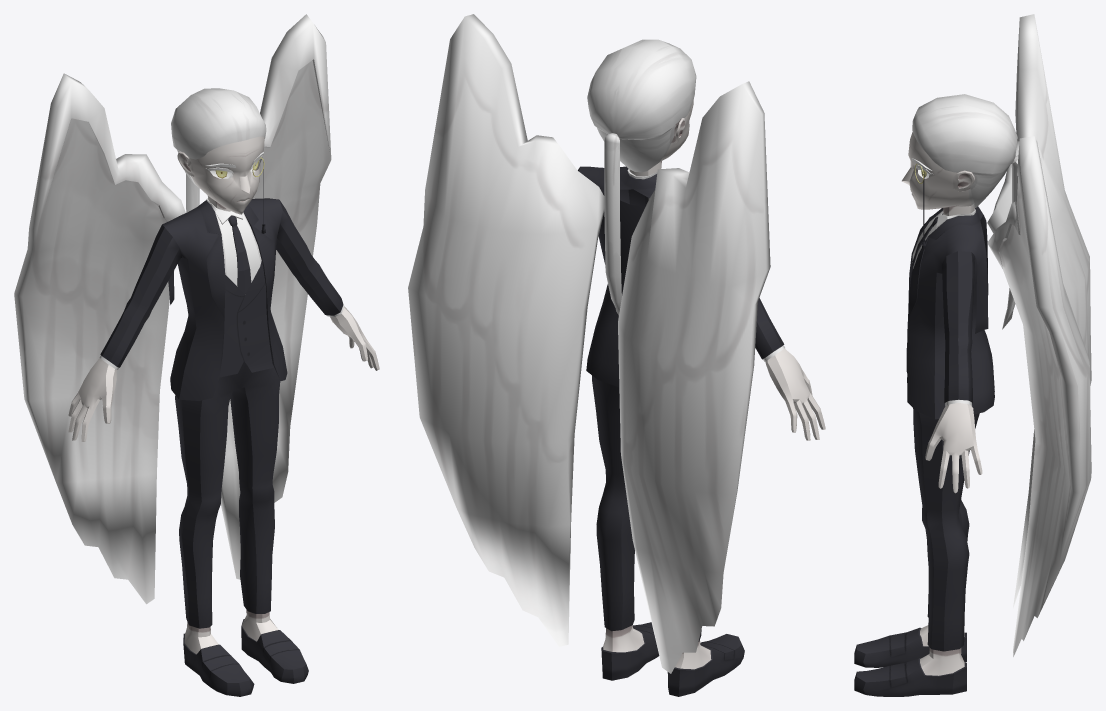
3 renders of one model, left to right at view 1: azimuth 30°, elevation 25°; view 2: azimuth 150°, elevation 25°; view 3: azimuth 270°, elevation 25°, orthographic. The views are drawn at different scales.
Parts seen in each view (by area): view 1: Wings, body, Body_Clothes_Outer, foot, Hair_Main, Body_Clothes_inner, Ac_Necktie; view 2: Wings, body, Hair_Main, Body_Clothes_Outer, foot, Hair_Tail; view 3: Wings, Body_Clothes_Outer, body, Hair_Main, foot, Hair_Tail.
Boxes of the visible parts, bbox=[...] form: Wings: bbox=[14, 14, 331, 604]; body: bbox=[68, 136, 379, 628]; Body_Clothes_Outer: bbox=[100, 198, 343, 400]; foot: bbox=[183, 609, 308, 696]; Hair_Main: bbox=[171, 88, 266, 187]; Body_Clothes_inner: bbox=[219, 260, 273, 377]; Ac_Necktie: bbox=[228, 216, 251, 293]; Wings: bbox=[408, 14, 770, 673]; body: bbox=[592, 98, 825, 641]; Hair_Main: bbox=[587, 39, 696, 172]; Body_Clothes_Outer: bbox=[578, 166, 784, 387]; foot: bbox=[601, 622, 744, 696]; Hair_Tail: bbox=[604, 133, 621, 315]; Wings: bbox=[987, 14, 1091, 656]; Body_Clothes_Outer: bbox=[907, 206, 994, 419]; body: bbox=[902, 132, 982, 651]; Hair_Main: bbox=[912, 94, 1017, 207]; foot: bbox=[854, 625, 966, 696]; Hair_Tail: bbox=[1002, 155, 1018, 329].
Bounding box in the file's own units: 1053 × 1936 × 695.
